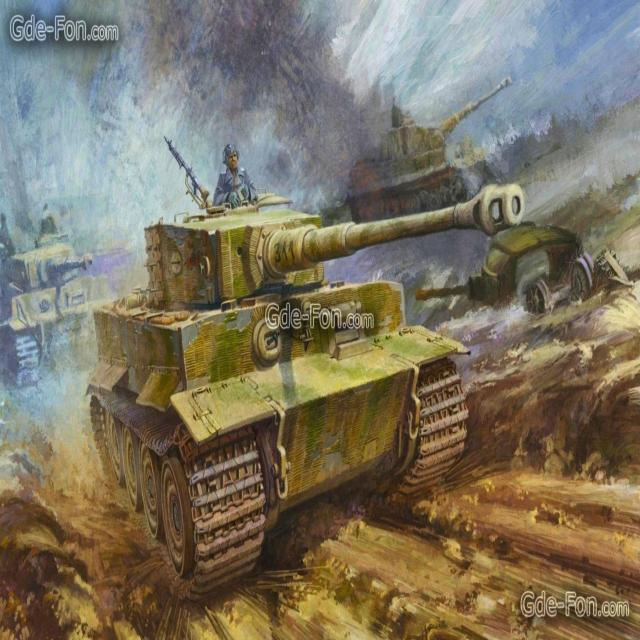Tanks: (78, 158, 472, 584), (338, 94, 505, 220), (10, 203, 105, 390)
